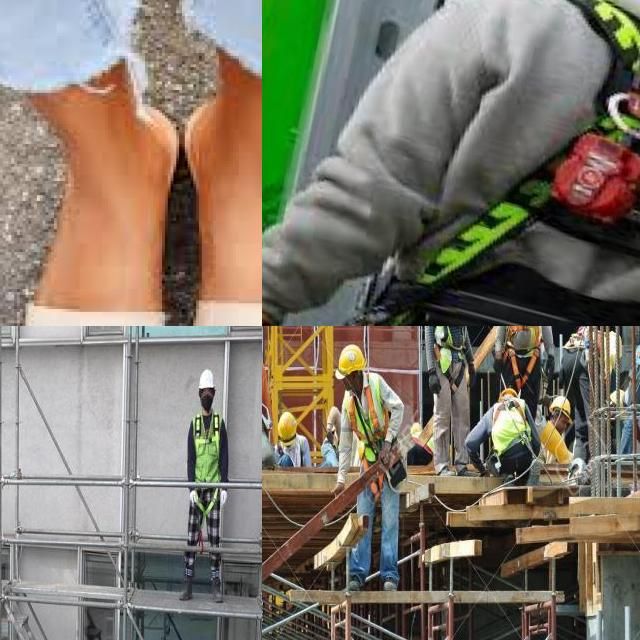Harness: (417, 0, 640, 287), (192, 413, 221, 460), (507, 326, 542, 346)
Sandals: (19, 97, 175, 326), (182, 102, 262, 326)
